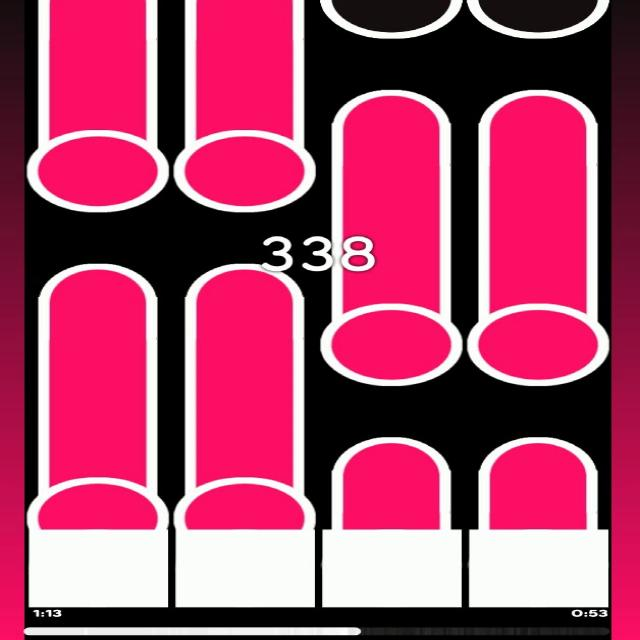end_hold: (174, 261, 308, 304), (323, 434, 457, 476), (472, 83, 602, 126), (35, 259, 162, 303), (472, 434, 604, 476), (329, 84, 454, 124)
note: (320, 0, 466, 41), (466, 0, 610, 41)
start_hold: (319, 283, 464, 387), (466, 284, 608, 388), (25, 113, 169, 213), (174, 114, 318, 214), (175, 458, 317, 532), (25, 459, 169, 530)
